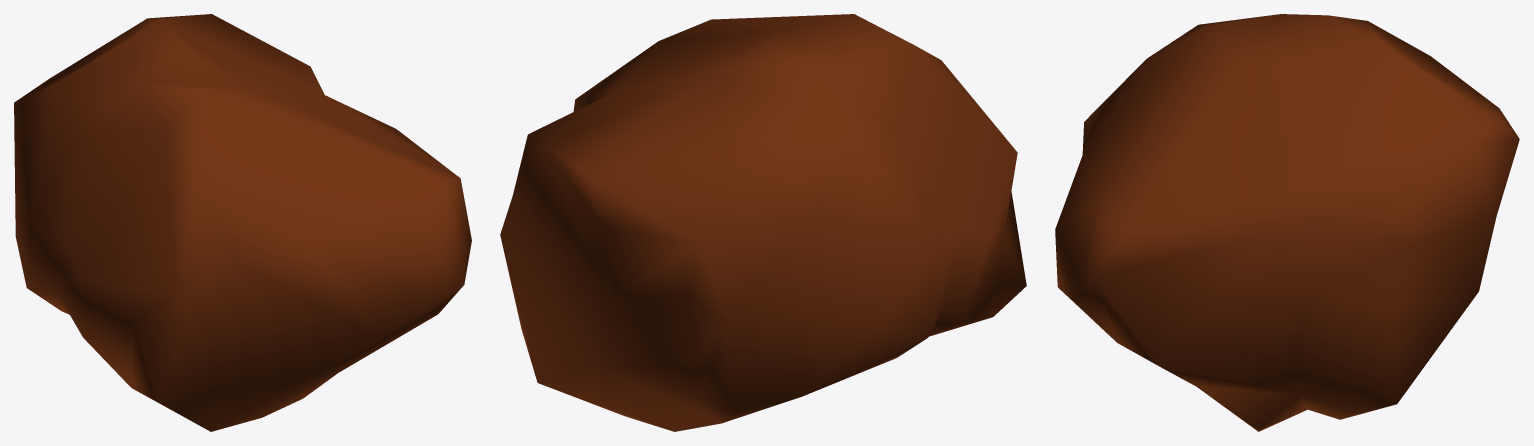
Rendered from FM_M_Well_Stone_11.fbx.
3 views of the same model, side by side, from view 1: azimuth 30°, elevation 25°; view 2: azimuth 150°, elevation 25°; view 3: azimuth 270°, elevation 25° (orthographic). The views are drawn at different scales.
Parts seen in each view (by area): view 1: FM_M_Well_Stone_11; view 2: FM_M_Well_Stone_11; view 3: FM_M_Well_Stone_11.
Part boxes in pixels (x1=…): FM_M_Well_Stone_11: x1=14, y1=14, x2=471, y2=431; FM_M_Well_Stone_11: x1=500, y1=14, x2=1026, y2=431; FM_M_Well_Stone_11: x1=1055, y1=14, x2=1519, y2=431.
Bounding box in the file's own units: 0.2893 × 0.2901 × 0.3457.
